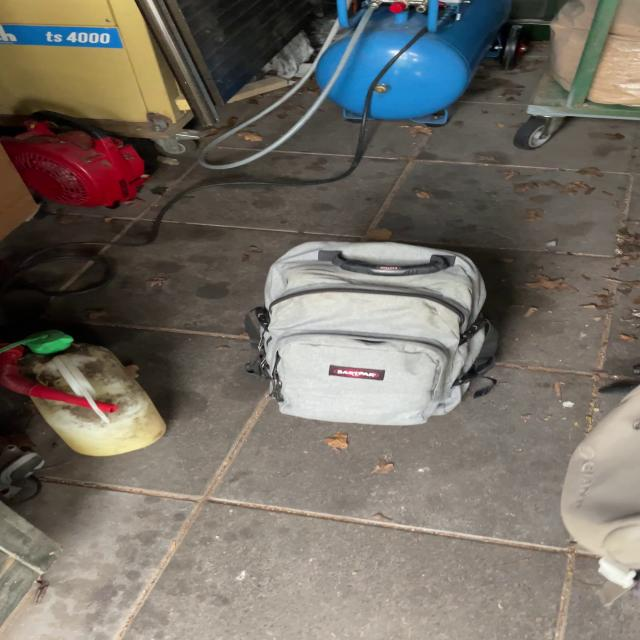backpack: (234, 234, 510, 431)
